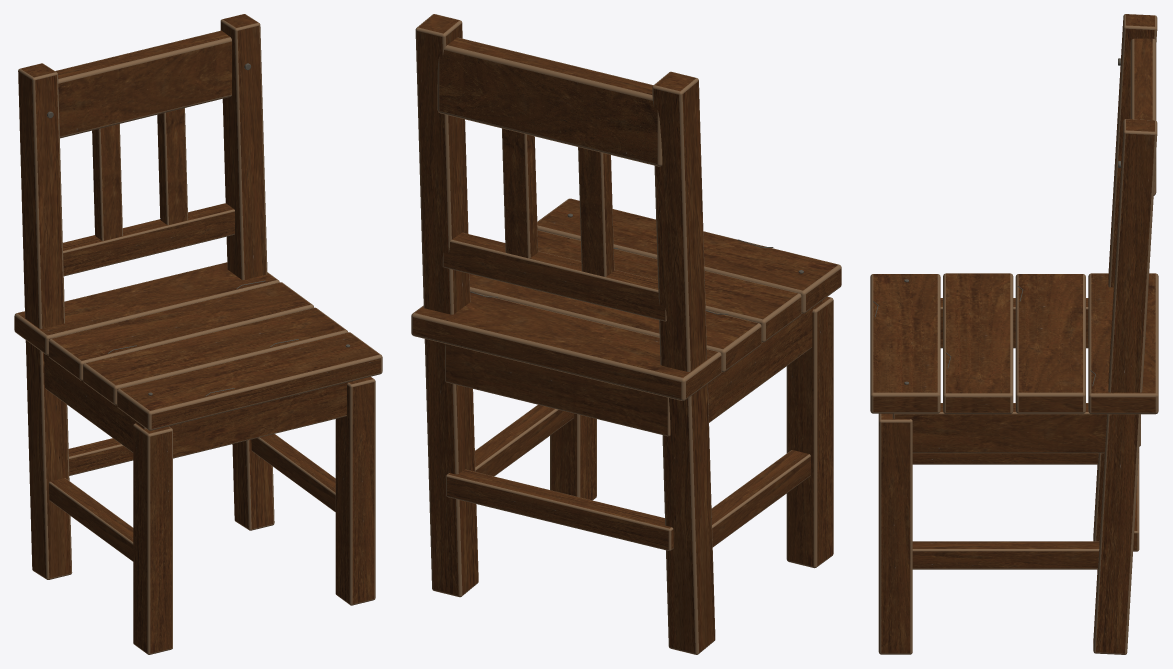
The model's file is chair.glb.
3 renders of one model, left to right at view 1: azimuth 30°, elevation 25°; view 2: azimuth 150°, elevation 25°; view 3: azimuth 270°, elevation 25°, orthographic. The views are drawn at different scales.
Visible parts, largest first — view 1: 木椅主体; view 2: 木椅主体; view 3: 木椅主体.
Boxes of the visible parts, x1=… form: 木椅主体: x1=14, y1=14, x2=382, y2=654; 木椅主体: x1=411, y1=14, x2=841, y2=654; 木椅主体: x1=870, y1=14, x2=1158, y2=654.
Size of the model in its own units: 0.4751 by 0.9552 by 0.476.
Materials: 3 (1 with a texture image).
